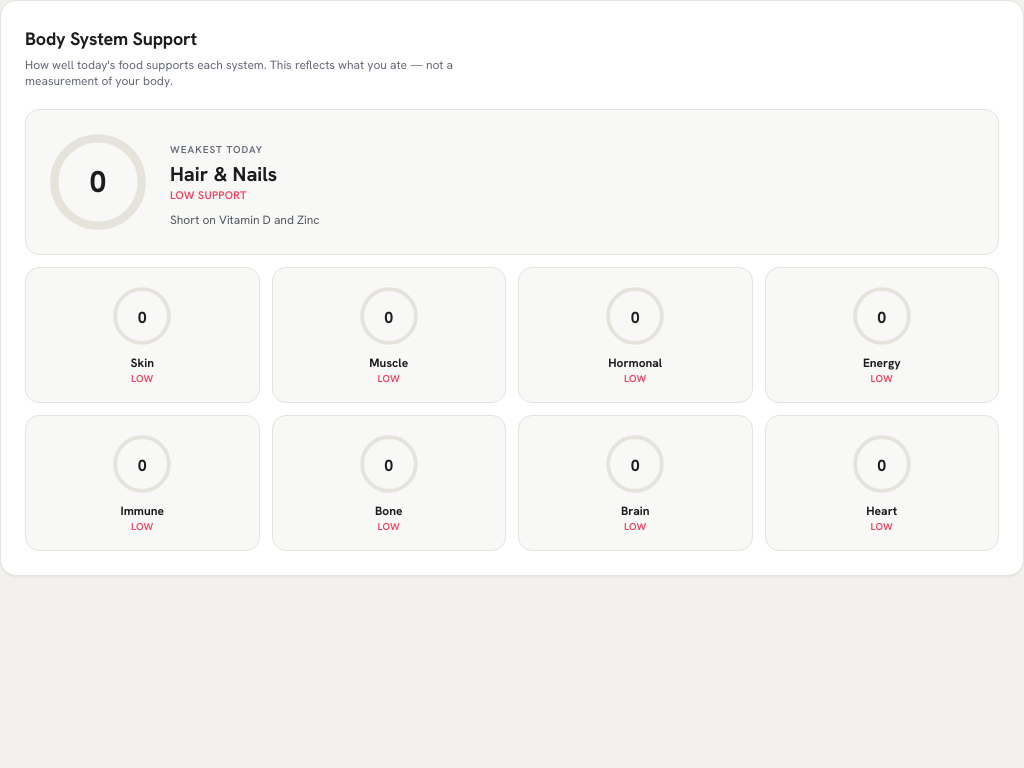
Test: BodySystems — drill-in › carries a not-medical-advice note into the detail view
Click the button with aria-label "Energy support": (882, 335) [764,267,999,403]
(page scrolled)
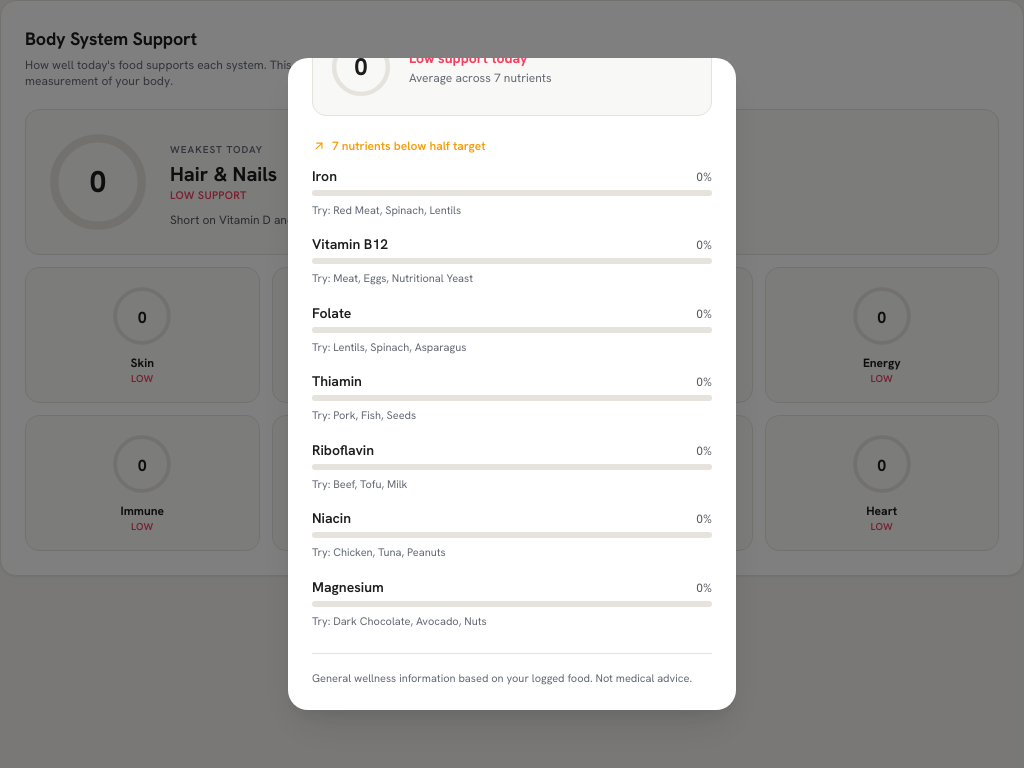
Check: the text "Not medical advice" is shown, box [312,671,692,685]
